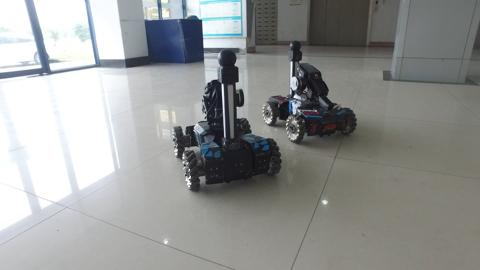chariot: (164, 46, 286, 192), (261, 40, 357, 153)
